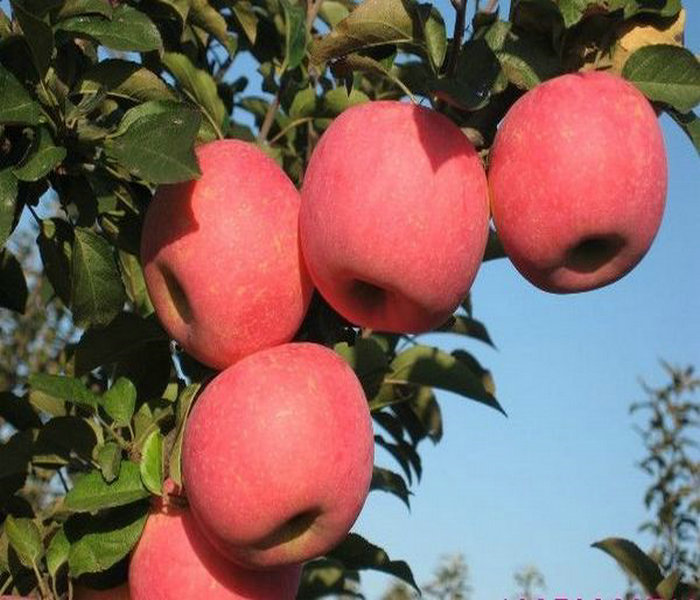apple: (180, 341, 374, 568), (298, 99, 486, 333), (487, 68, 670, 295)
obscured(1)_apple: (140, 136, 304, 363)
